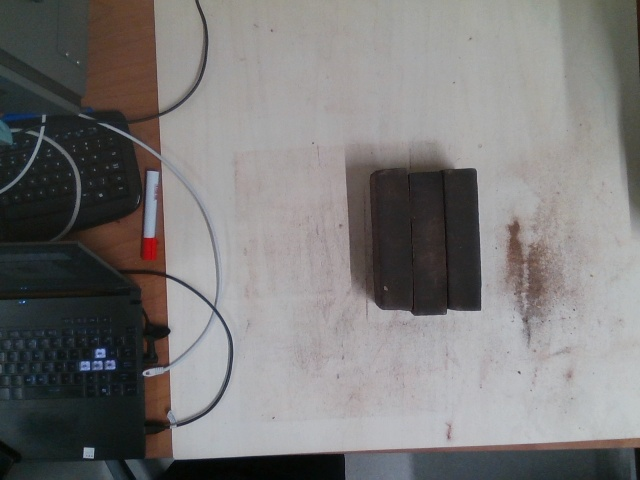brick-side: (377, 168, 414, 309), (411, 173, 447, 315), (446, 169, 482, 310)
